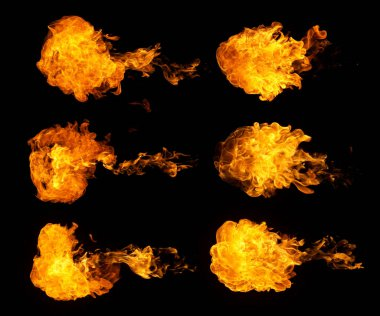fire: (24, 220, 162, 301), (210, 18, 320, 106), (208, 207, 314, 295), (34, 13, 133, 106), (218, 118, 325, 198), (22, 121, 117, 205)
